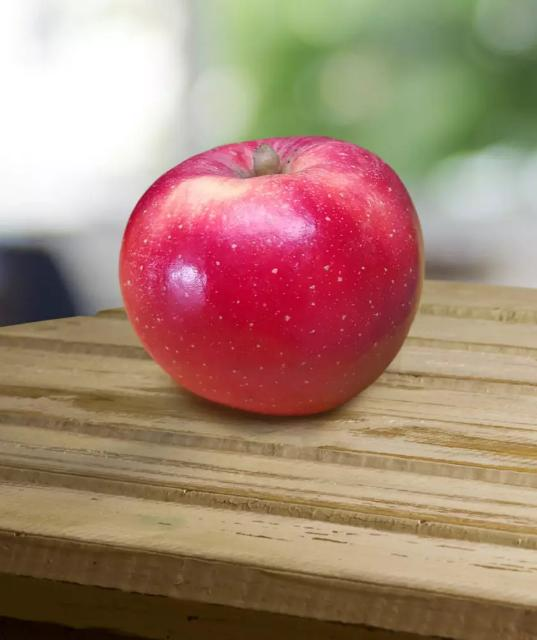Apples: (120, 136, 420, 418)
